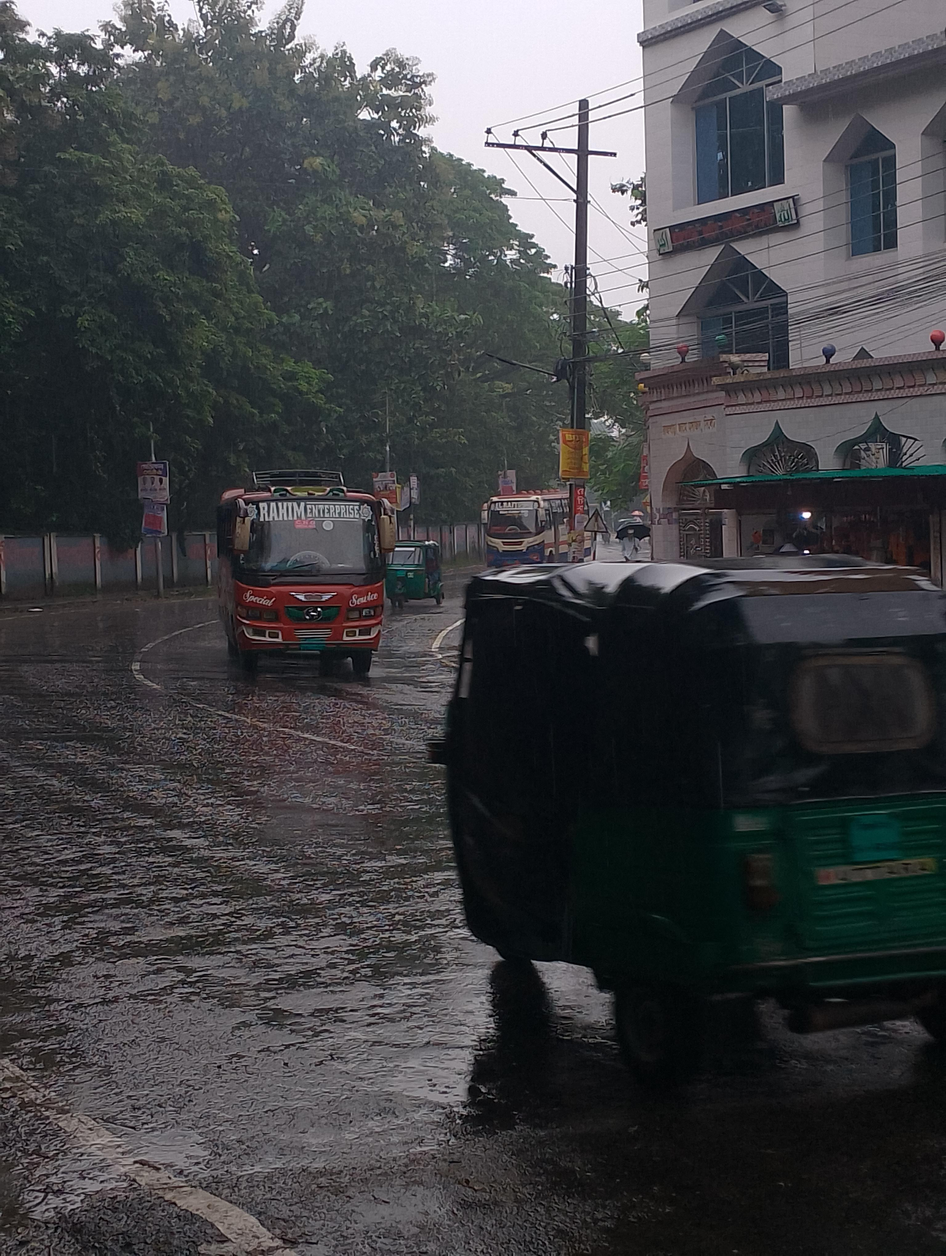Bus: (198, 455, 410, 713), (465, 476, 604, 568)
